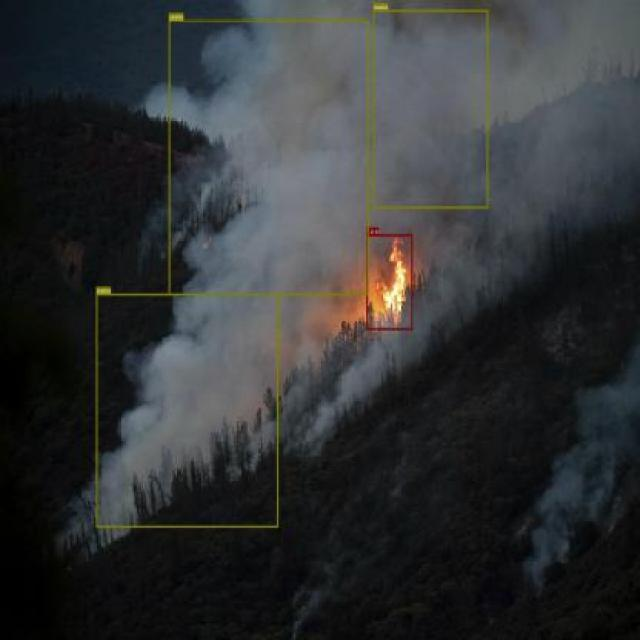Fire: (366, 233, 412, 330)
Smoke: (168, 19, 368, 295), (95, 293, 278, 527), (512, 15, 637, 216), (373, 9, 489, 208), (296, 302, 374, 412), (437, 224, 520, 305), (529, 470, 595, 564), (579, 383, 634, 471)
